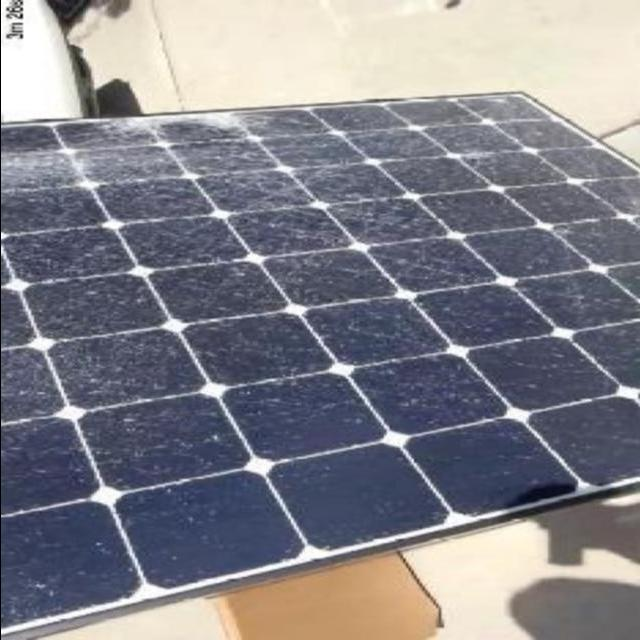cracked: (2, 86, 640, 626)
